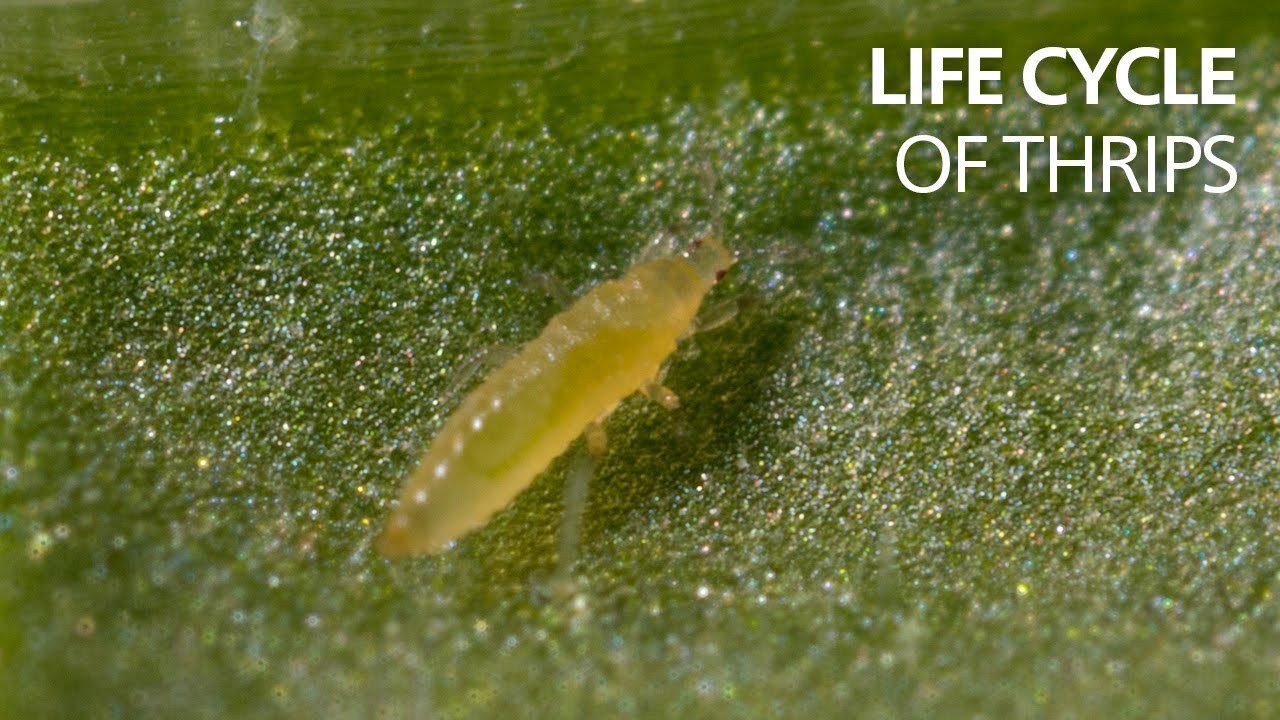Thrips: (359, 217, 765, 590)
